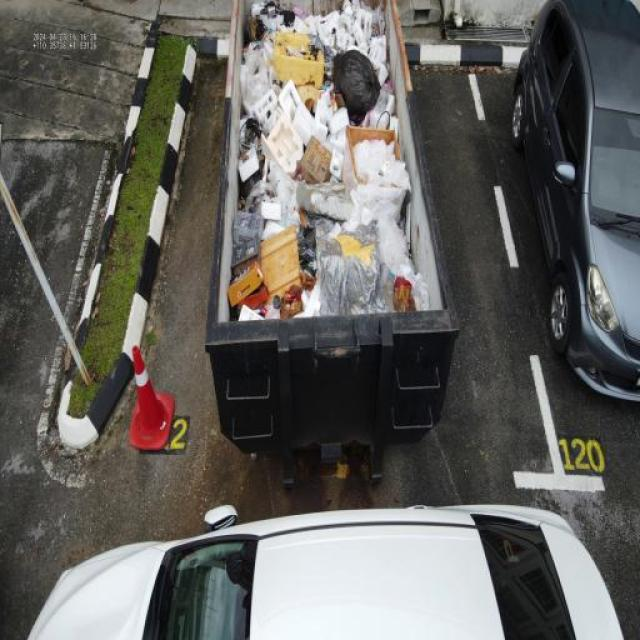Legalparking: (204, 0, 458, 486), (509, 0, 639, 401)
illegalparking: (29, 504, 622, 639)
